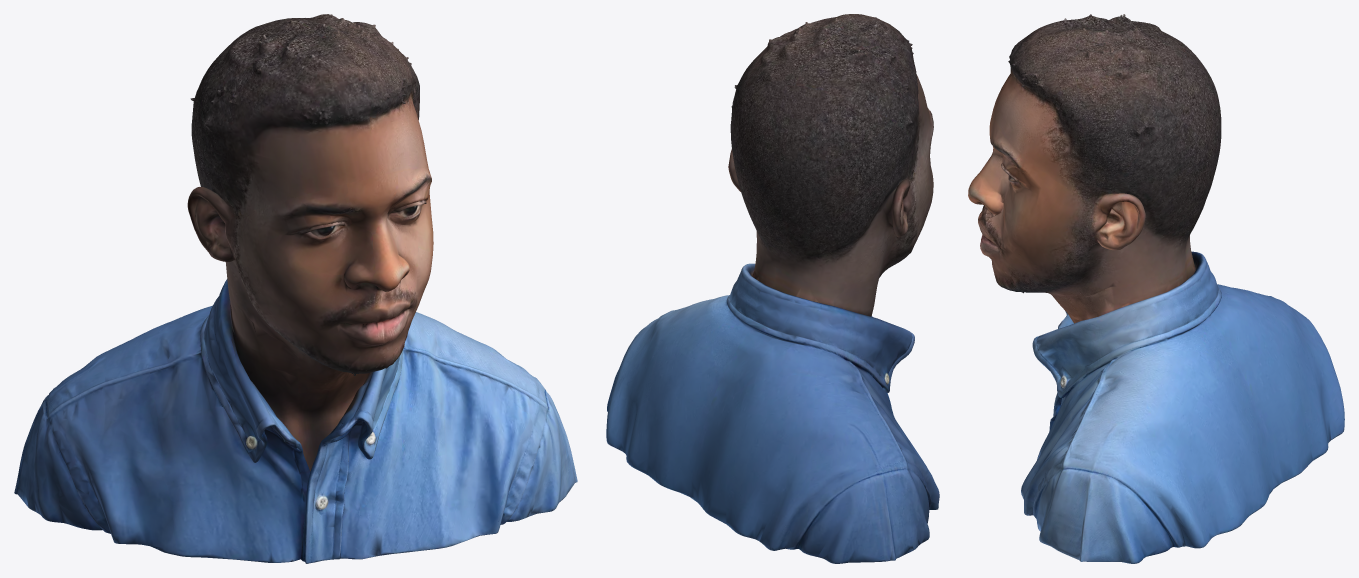
Rendered from stephen.glb.
3 views of the same model, side by side, from view 1: azimuth 30°, elevation 25°; view 2: azimuth 150°, elevation 25°; view 3: azimuth 270°, elevation 25° (orthographic). The views are drawn at different scales.
Parts seen in each view (by area): view 1: tripo_node_ef590898-3fac-4abc-a69f-3b8298807686; view 2: tripo_node_ef590898-3fac-4abc-a69f-3b8298807686; view 3: tripo_node_ef590898-3fac-4abc-a69f-3b8298807686.
Boxes of the visible parts, bbox=[...] form: tripo_node_ef590898-3fac-4abc-a69f-3b8298807686: bbox=[14, 14, 577, 563]; tripo_node_ef590898-3fac-4abc-a69f-3b8298807686: bbox=[606, 14, 939, 563]; tripo_node_ef590898-3fac-4abc-a69f-3b8298807686: bbox=[968, 14, 1344, 563].
Size of the model in its own units: 0.9044 by 0.9795 by 0.7691.
1 material, 1 textured.
